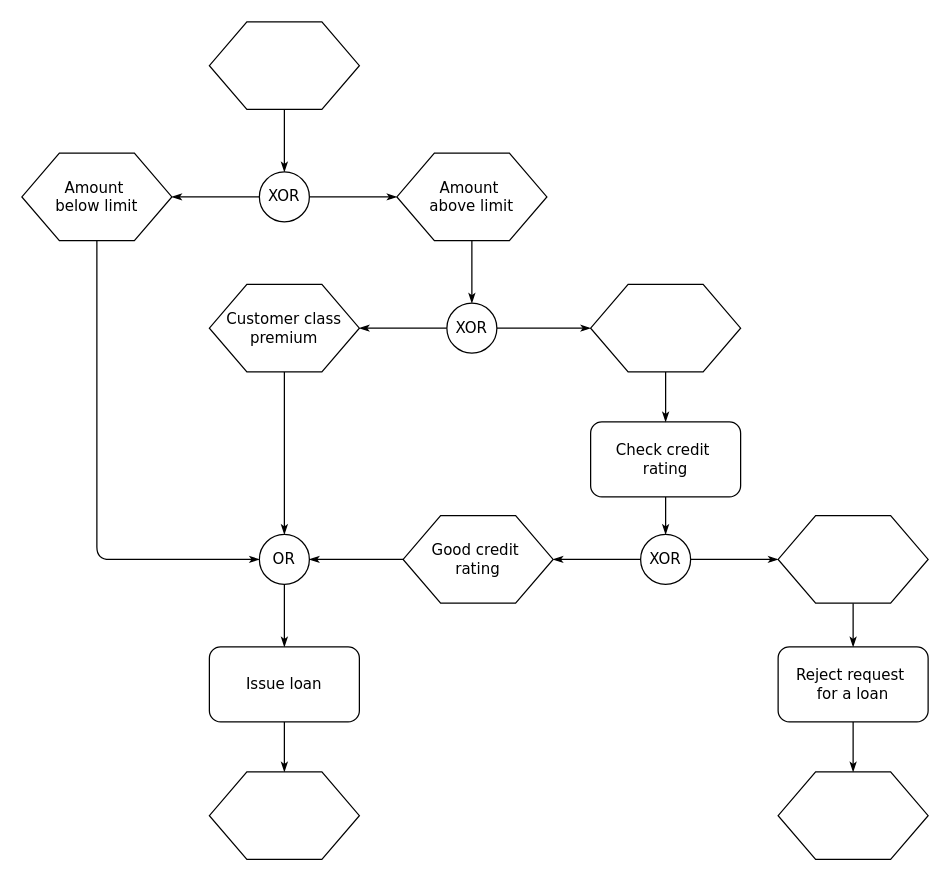
Image size: 950x881. Some labels were removed from this diagram. Each missing label, with the box of its shape:
Bad credit rating: (777, 514, 928, 603)
Customer class other: (589, 283, 741, 372)
Loan issued: (208, 771, 359, 859)
Loan request: (208, 21, 359, 109)
Request rejected: (777, 771, 928, 859)
